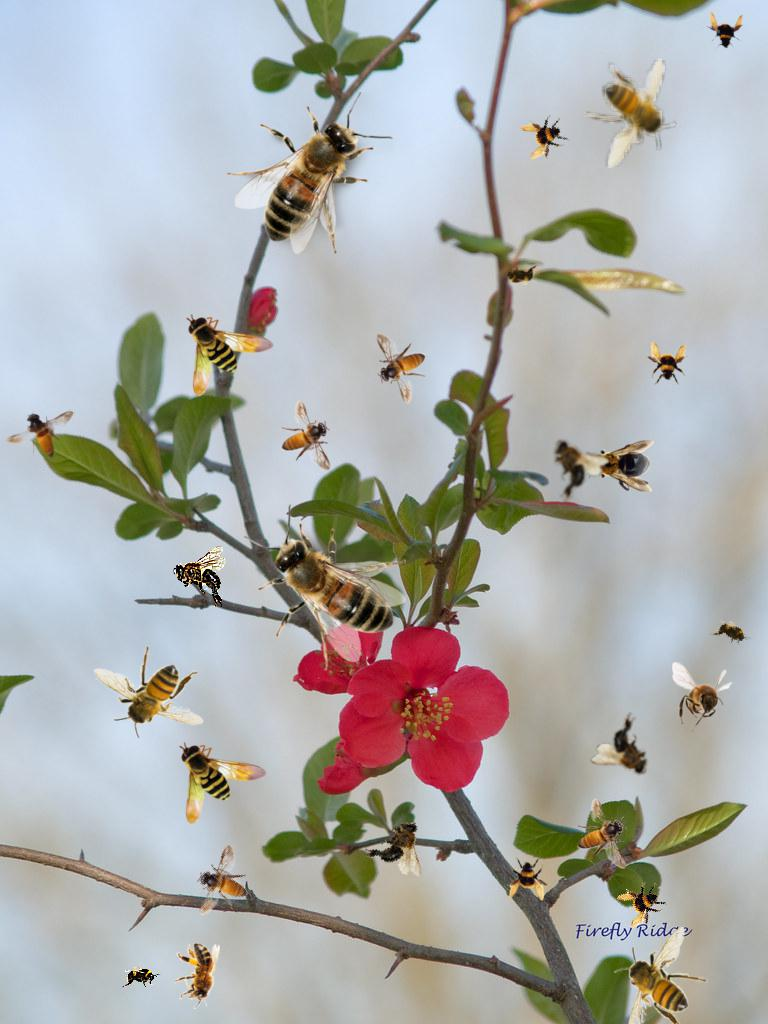Bee: (244, 504, 406, 671), (226, 92, 393, 254), (584, 58, 678, 169), (93, 645, 204, 739), (614, 926, 708, 1024), (178, 842, 264, 929), (186, 314, 274, 396), (179, 742, 267, 824), (530, 424, 613, 506), (588, 710, 669, 792), (360, 808, 437, 880), (672, 662, 733, 732), (612, 874, 674, 936), (376, 333, 426, 404), (577, 798, 627, 869), (281, 400, 331, 471), (4, 409, 75, 459), (586, 440, 654, 492), (516, 109, 574, 167), (173, 546, 226, 608), (175, 943, 220, 1009), (644, 341, 688, 385), (702, 10, 746, 54), (507, 857, 551, 901), (709, 614, 755, 652), (121, 966, 161, 988), (500, 264, 540, 286)
